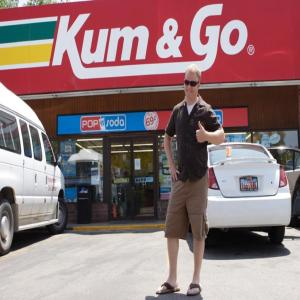Vehicle-registration-plate: (241, 176, 260, 192)
